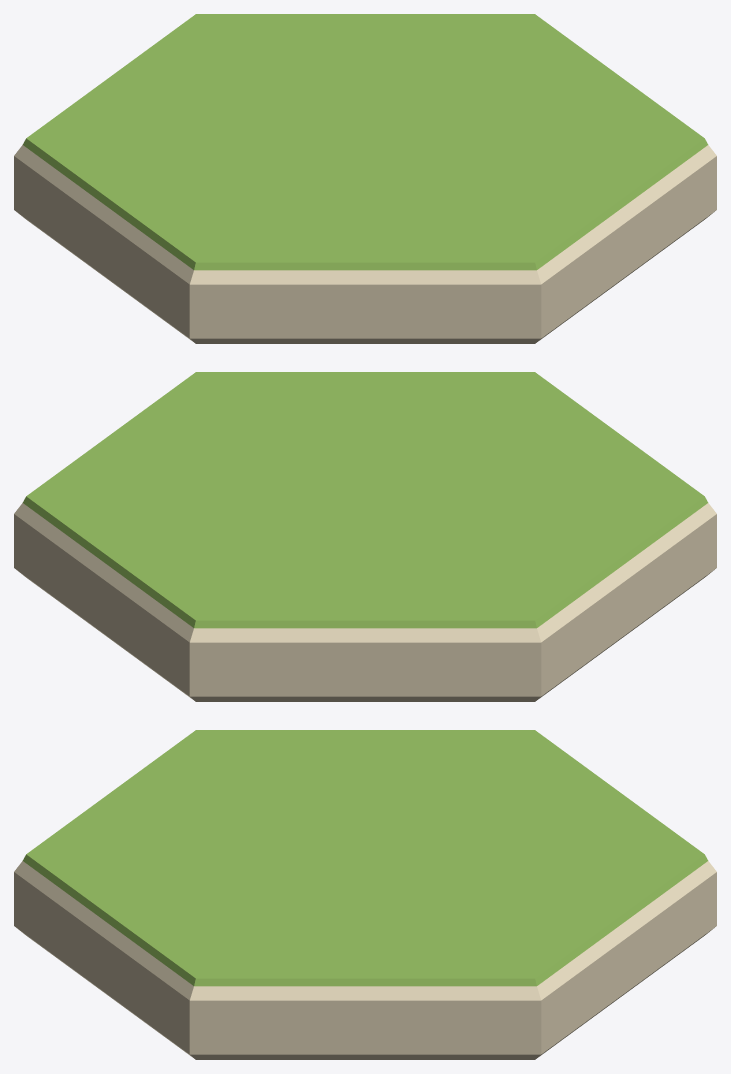
Rendered from foundation-pasture.glb.
The picture shows the model from 3 angles, top to bottom: view 1: azimuth 30°, elevation 25°; view 2: azimuth 150°, elevation 25°; view 3: azimuth 270°, elevation 25°; orthographic projection.
Visible parts, largest first — view 1: foundation-pasture.003, foundation-pasture.001, foundation-pasture.002, foundation-pasture; view 2: foundation-pasture.003, foundation-pasture.001, foundation-pasture.002, foundation-pasture; view 3: foundation-pasture.003, foundation-pasture.001, foundation-pasture.002, foundation-pasture.
Boxes of the visible parts, x1=… form: foundation-pasture.003: x1=22, y1=14, x2=708, y2=270; foundation-pasture.001: x1=14, y1=156, x2=716, y2=338; foundation-pasture.002: x1=14, y1=145, x2=716, y2=284; foundation-pasture: x1=16, y1=211, x2=714, y2=343; foundation-pasture.003: x1=22, y1=372, x2=708, y2=628; foundation-pasture.001: x1=14, y1=514, x2=716, y2=696; foundation-pasture.002: x1=14, y1=503, x2=716, y2=642; foundation-pasture: x1=16, y1=569, x2=714, y2=701; foundation-pasture.003: x1=22, y1=730, x2=708, y2=986; foundation-pasture.001: x1=14, y1=872, x2=716, y2=1054; foundation-pasture.002: x1=14, y1=861, x2=716, y2=1000; foundation-pasture: x1=16, y1=927, x2=714, y2=1059.
Bounding box in the file's own units: 1.7 × 0.25 × 1.96.
